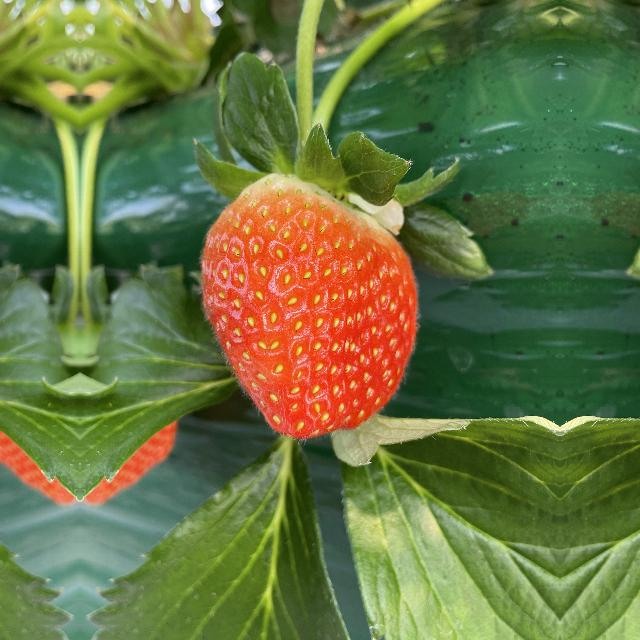Health_100: (186, 172, 437, 454)
